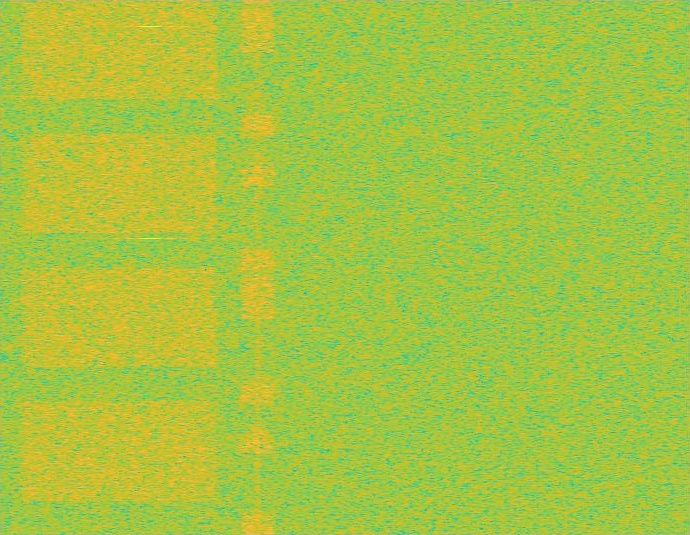5G: (16, 0, 223, 534)
DSSS: (256, 0, 260, 534)
LTE: (241, 0, 275, 534)
Radar: (143, 0, 157, 534)
